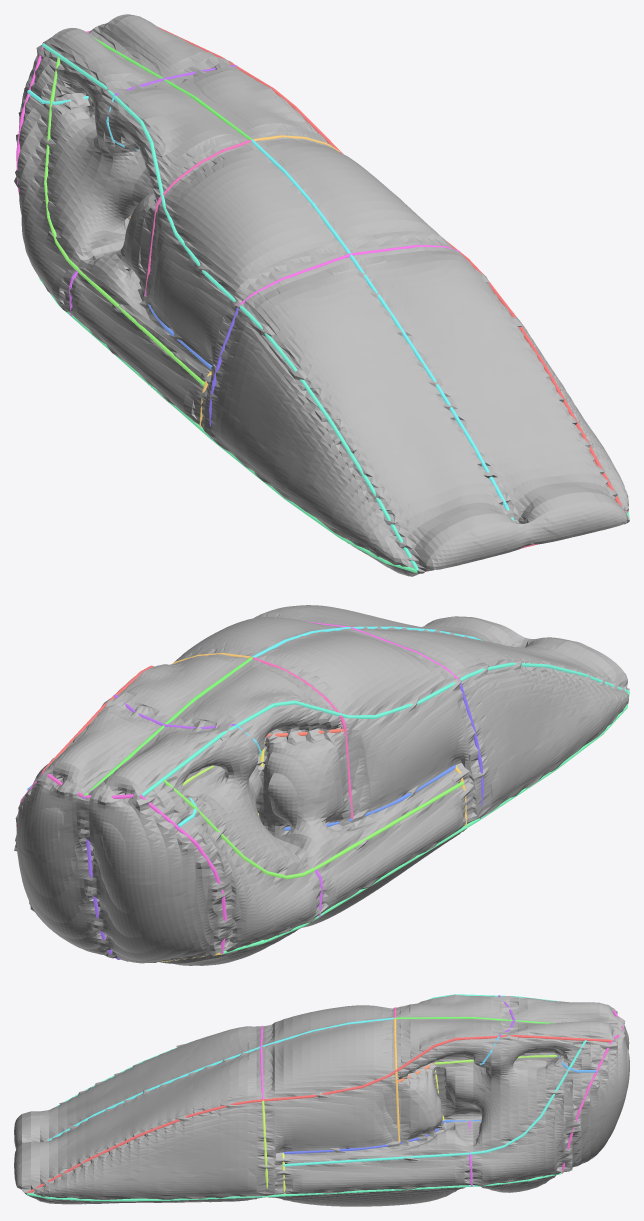
Rendered from t2f_hand_vacuum.gltf.
3 views of the same model, one above another, from view 1: azimuth 30°, elevation 25°; view 2: azimuth 150°, elevation 25°; view 3: azimuth 270°, elevation 25° (orthographic). The views are drawn at different scales.
Size of the model in its own units: 0.3365 by 0.2885 by 0.943.
